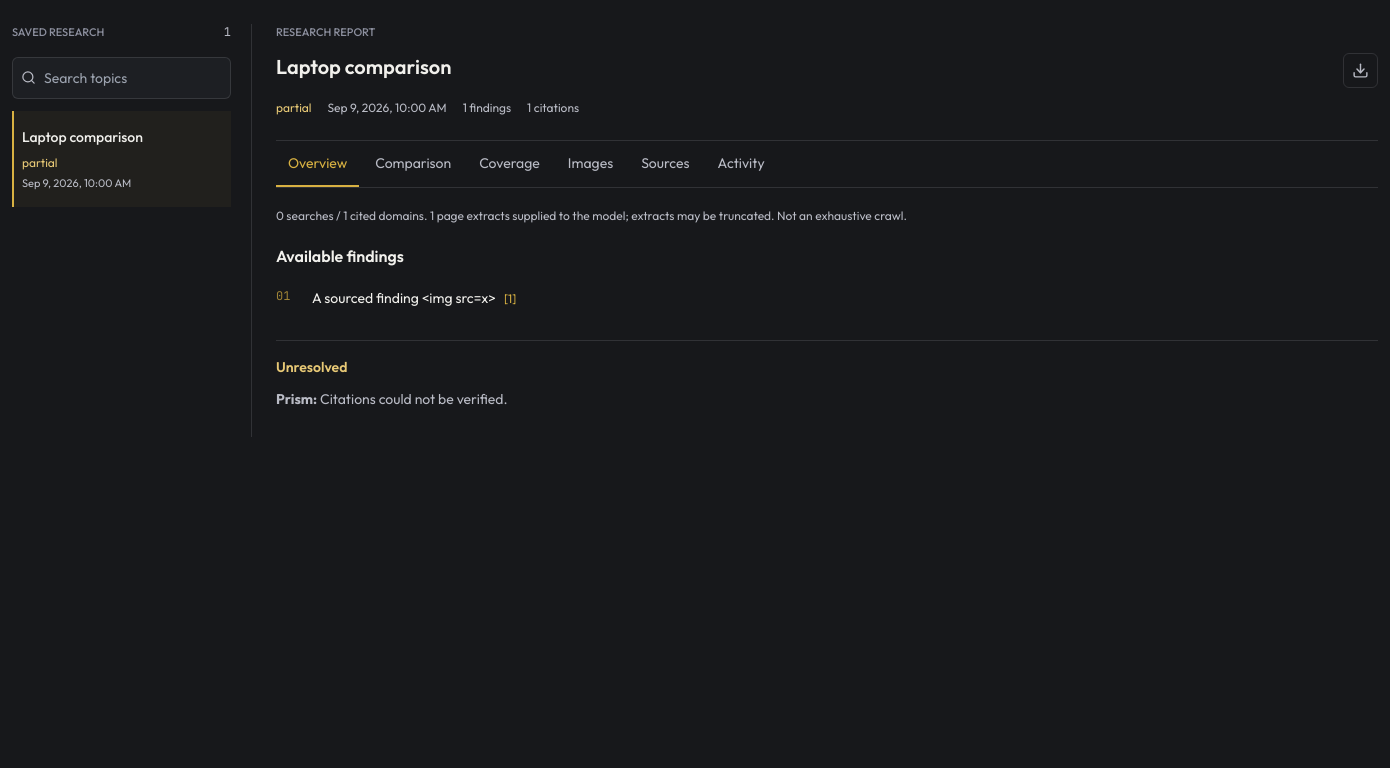
Scenario: saved research reports › distinguishes downloaded, supplied, truncated and unavailable page extracts
Click the tab "Coverage". click: [510, 164]
box: x1=467 y1=140 x2=552 y2=186
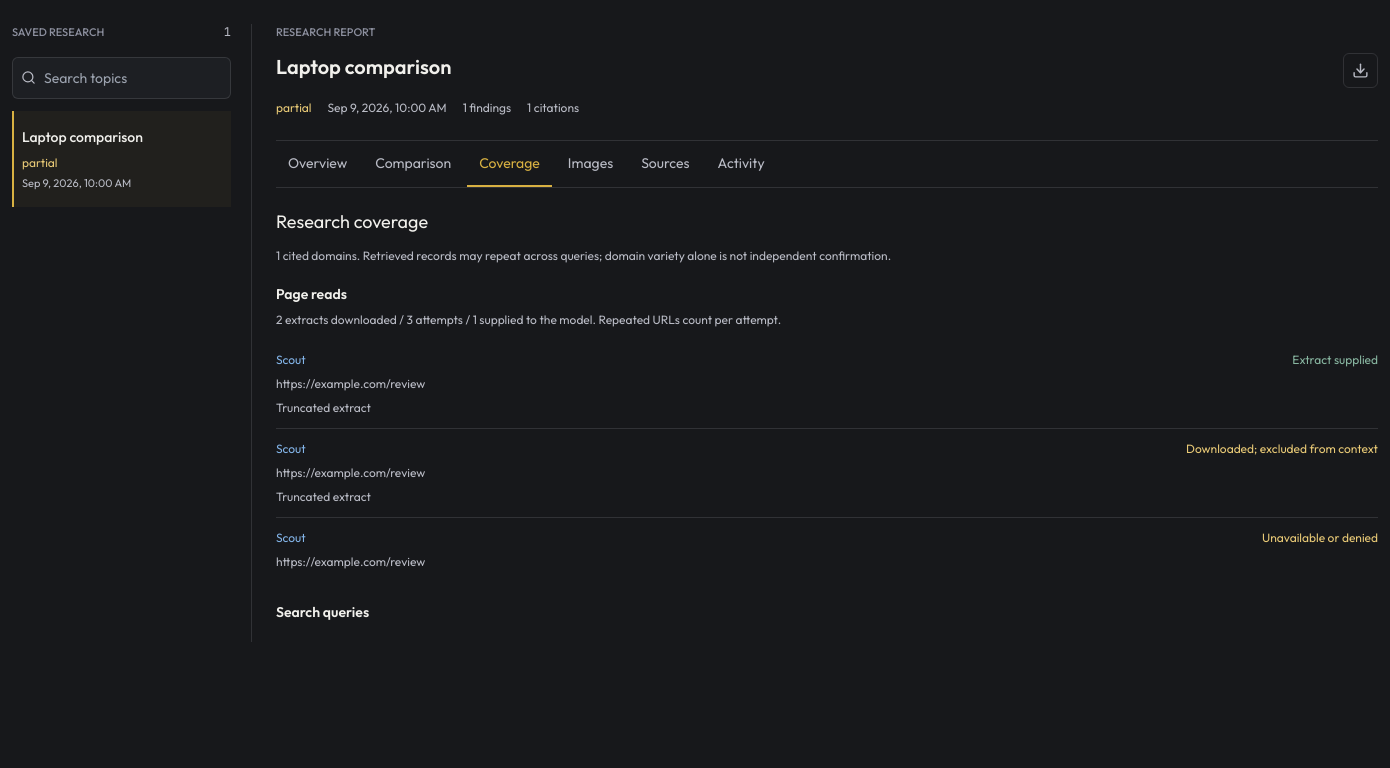
Expected: the text "2 extracts downloaded / 3 attempts / 1 supplied to the model" is shown, x1=276 y1=312 x2=781 y2=326
Expected: the text "Downloaded; excluded from context" is shown, x1=1186 y1=440 x2=1378 y2=456
Expected: the text "Unavailable or denied" is shown, x1=1262 y1=530 x2=1378 y2=546
